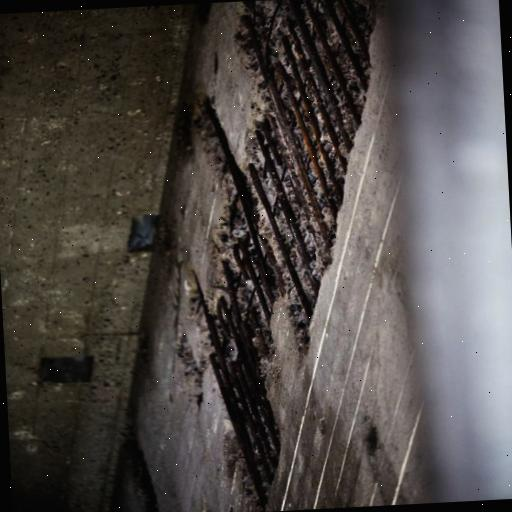spalling: (161, 0, 381, 502)
